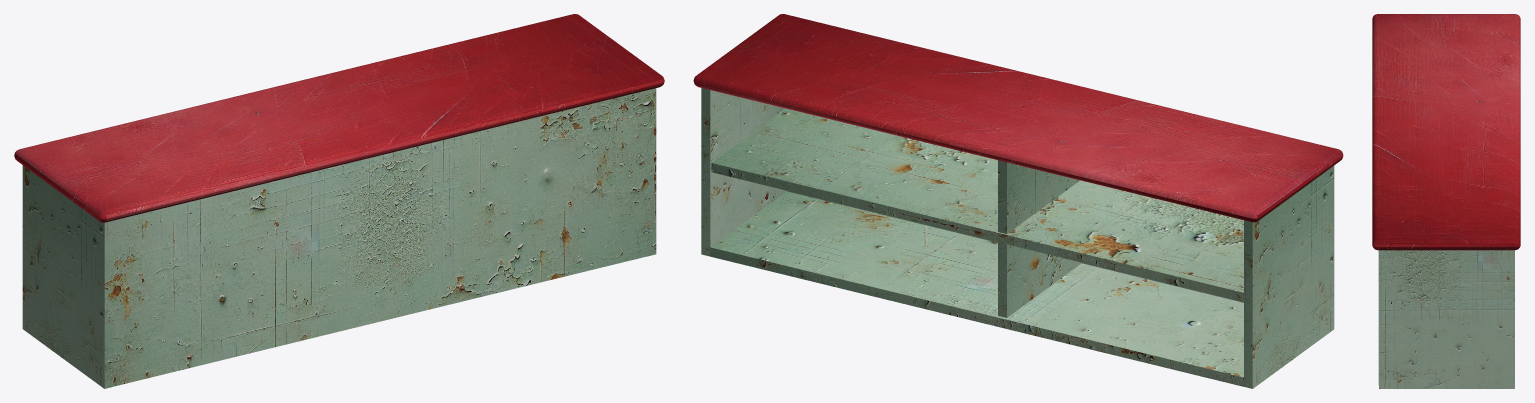
Rendered from Counter.fbx.
3 renders of one model, left to right at view 1: azimuth 30°, elevation 25°; view 2: azimuth 150°, elevation 25°; view 3: azimuth 270°, elevation 25°, orthographic. The views are drawn at different scales.
Visible parts, largest first — view 1: CounterDown, CounterUp; view 2: CounterDown, CounterUp; view 3: CounterUp, CounterDown.
Boxes of the visible parts, x1,y1,x2,y2 form: CounterDown: [22, 88, 656, 388]; CounterUp: [14, 14, 664, 222]; CounterDown: [701, 88, 1334, 388]; CounterUp: [693, 14, 1343, 222]; CounterUp: [1372, 14, 1520, 250]; CounterDown: [1378, 250, 1514, 388].
Bounding box in the file's own units: 318 × 96.35 × 86.76.
